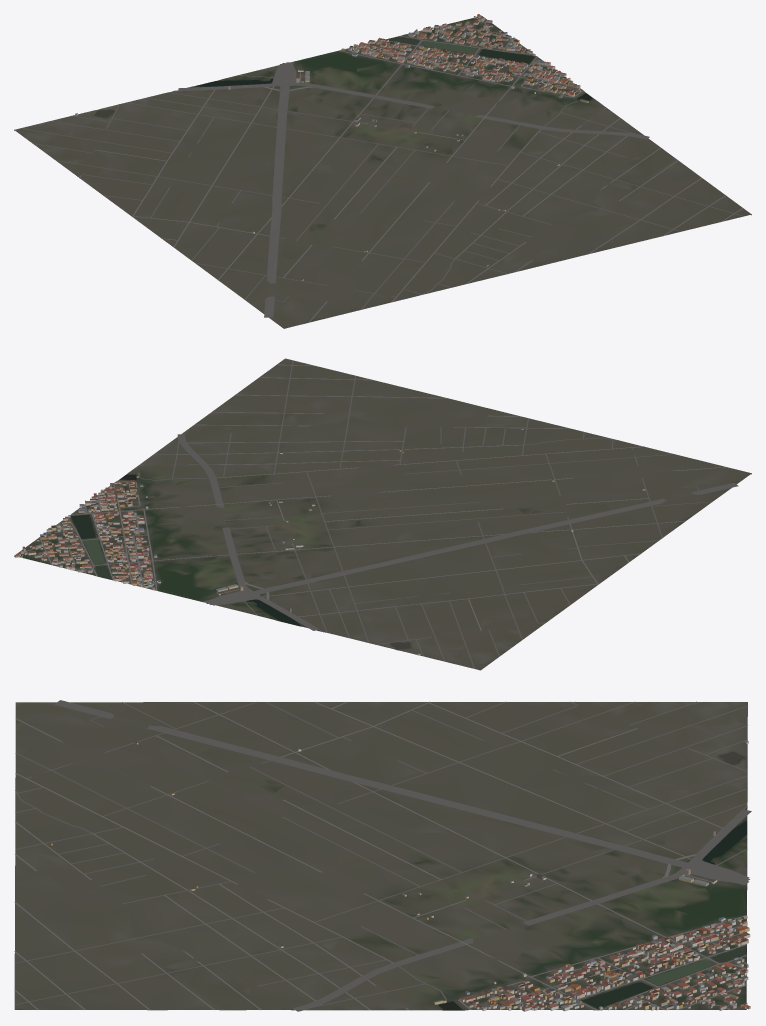
The picture shows the model from 3 angles, top to bottom: view 1: azimuth 30°, elevation 25°; view 2: azimuth 150°, elevation 25°; view 3: azimuth 270°, elevation 25°; orthographic projection. The views are drawn at different scales.
Visible parts, largest first — view 1: ground, roads, buildings, water; view 2: ground, roads, buildings, water; view 3: ground, roads, buildings, water.
Part boxes in pixels (x1,y1,x2,y2): ground: (14,16,751,328); roads: (20,21,743,322); buildings: (75,14,588,280); water: (94,36,592,117); ground: (14,358,751,670); roads: (26,360,738,668); buildings: (14,428,645,655); water: (71,474,410,649); ground: (14,702,747,1010); roads: (14,700,751,1011); buildings: (49,740,750,1011); water: (438,751,747,1009).
Size of the model in its own units: 1417 by 15.46 by 1413.
